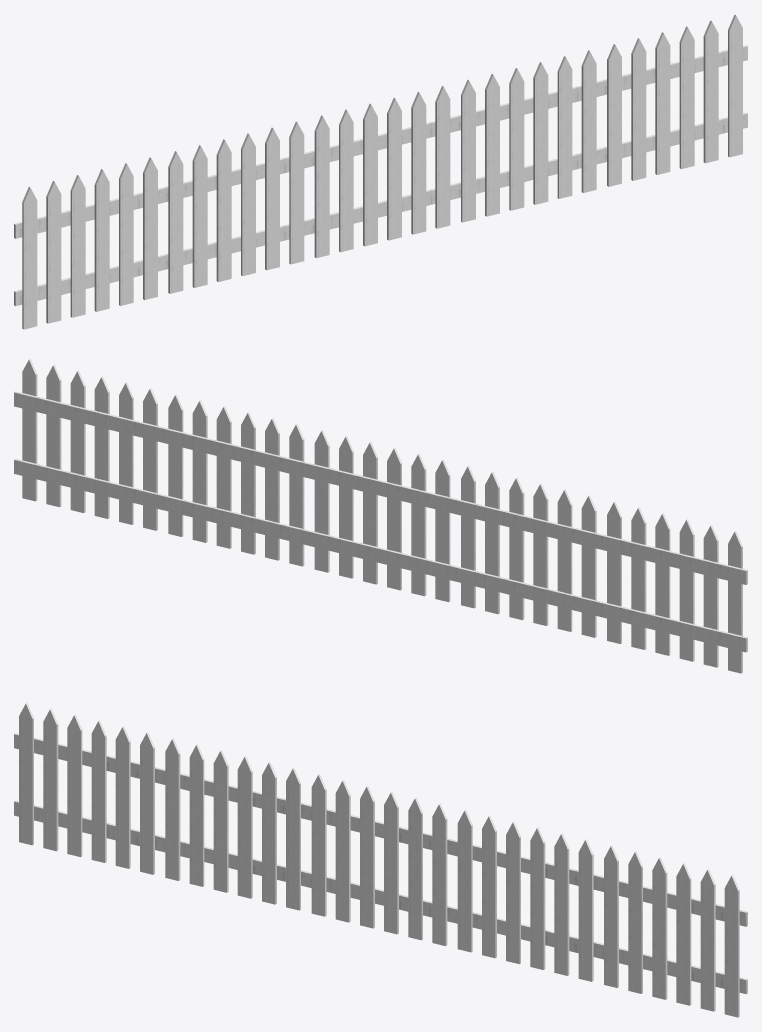
The model's file is valla.obj.
3 views of the same model, one above another, from view 1: azimuth 30°, elevation 25°; view 2: azimuth 150°, elevation 25°; view 3: azimuth 330°, elevation 25° (orthographic).
Visible parts, largest first — view 1: vallaBlanca; view 2: vallaBlanca; view 3: vallaBlanca.
Part boxes in pixels (x1,y1,x2,y2): vallaBlanca: (14,14,747,329); vallaBlanca: (14,358,747,673); vallaBlanca: (14,702,747,1017).
Bounding box in the file's own units: 5.46 × 1 × 0.04.
Materials: 10 (10 with a texture image).
